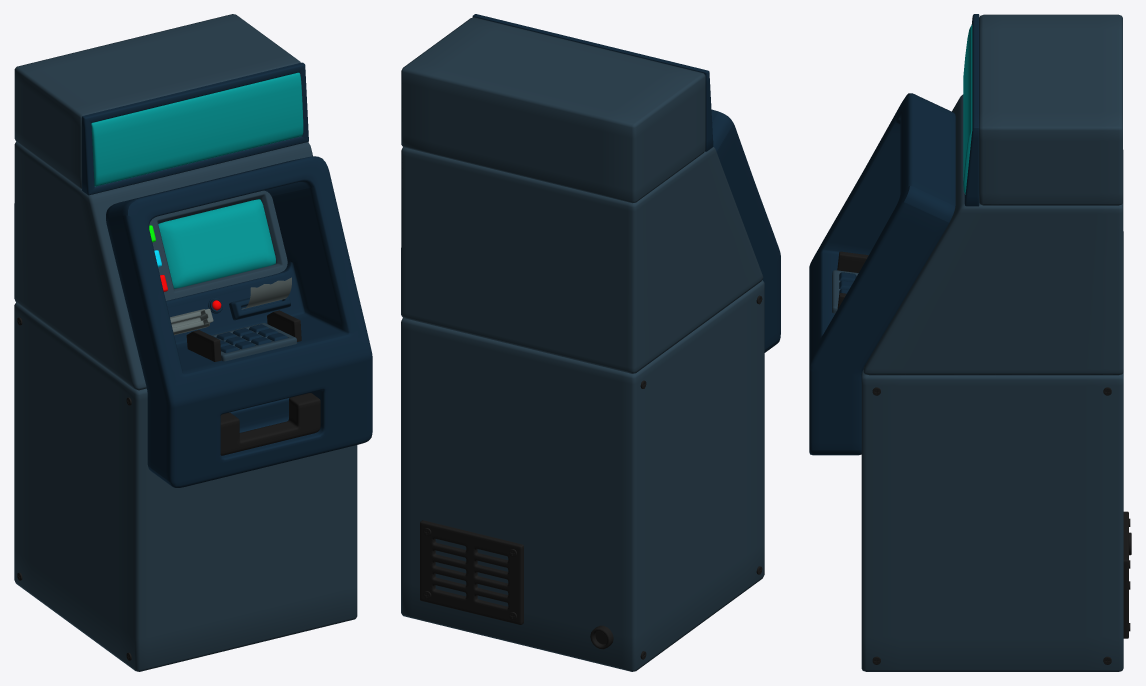
Rendered from ATM.fbx.
3 views of the same model, side by side, from view 1: azimuth 30°, elevation 25°; view 2: azimuth 150°, elevation 25°; view 3: azimuth 270°, elevation 25° (orthographic). The views are drawn at different scales.
Parts seen in each view (by area): view 1: lower_body, front_setting, top_body, light_box, light, lcd, frame, screen, bill_printer, keyboard, receipt, credit_card (+1 smaller); view 2: lower_body, top_body, light_box, vent, front_setting, frame; view 3: lower_body, top_body, front_setting, light_box, frame, light, keyboard, vent.
Boxes of the visible parts, left/top/right/bottom form: lower_body: left=14, top=303, right=357, bottom=671; front_setting: left=106, top=156, right=372, bottom=487; top_body: left=14, top=142, right=312, bottom=390; light_box: left=14, top=14, right=300, bottom=188; light: left=91, top=72, right=303, bottom=186; lcd: left=158, top=199, right=275, bottom=288; frame: left=82, top=62, right=308, bottom=195; screen: left=149, top=190, right=287, bottom=300; bill_printer: left=220, top=393, right=320, bottom=455; keyboard: left=186, top=310, right=301, bottom=361; receipt: left=241, top=277, right=291, bottom=309; credit_card: left=170, top=309, right=213, bottom=335; lower_body: left=401, top=280, right=764, bottom=671; top_body: left=401, top=147, right=763, bottom=373; light_box: left=401, top=17, right=705, bottom=203; vent: left=420, top=520, right=523, bottom=624; front_setting: left=711, top=109, right=780, bottom=352; frame: left=472, top=14, right=713, bottom=151; lower_body: left=861, top=370, right=1123, bottom=671; top_body: left=863, top=94, right=1123, bottom=375; front_setting: left=809, top=93, right=955, bottom=455; light_box: left=979, top=14, right=1122, bottom=205; frame: left=964, top=14, right=979, bottom=206; light: left=963, top=25, right=972, bottom=194; keyboard: left=832, top=251, right=868, bottom=313; vent: left=1123, top=511, right=1128, bottom=638.
Bounding box in the file's own units: 3.29 × 7.23 × 3.87.
